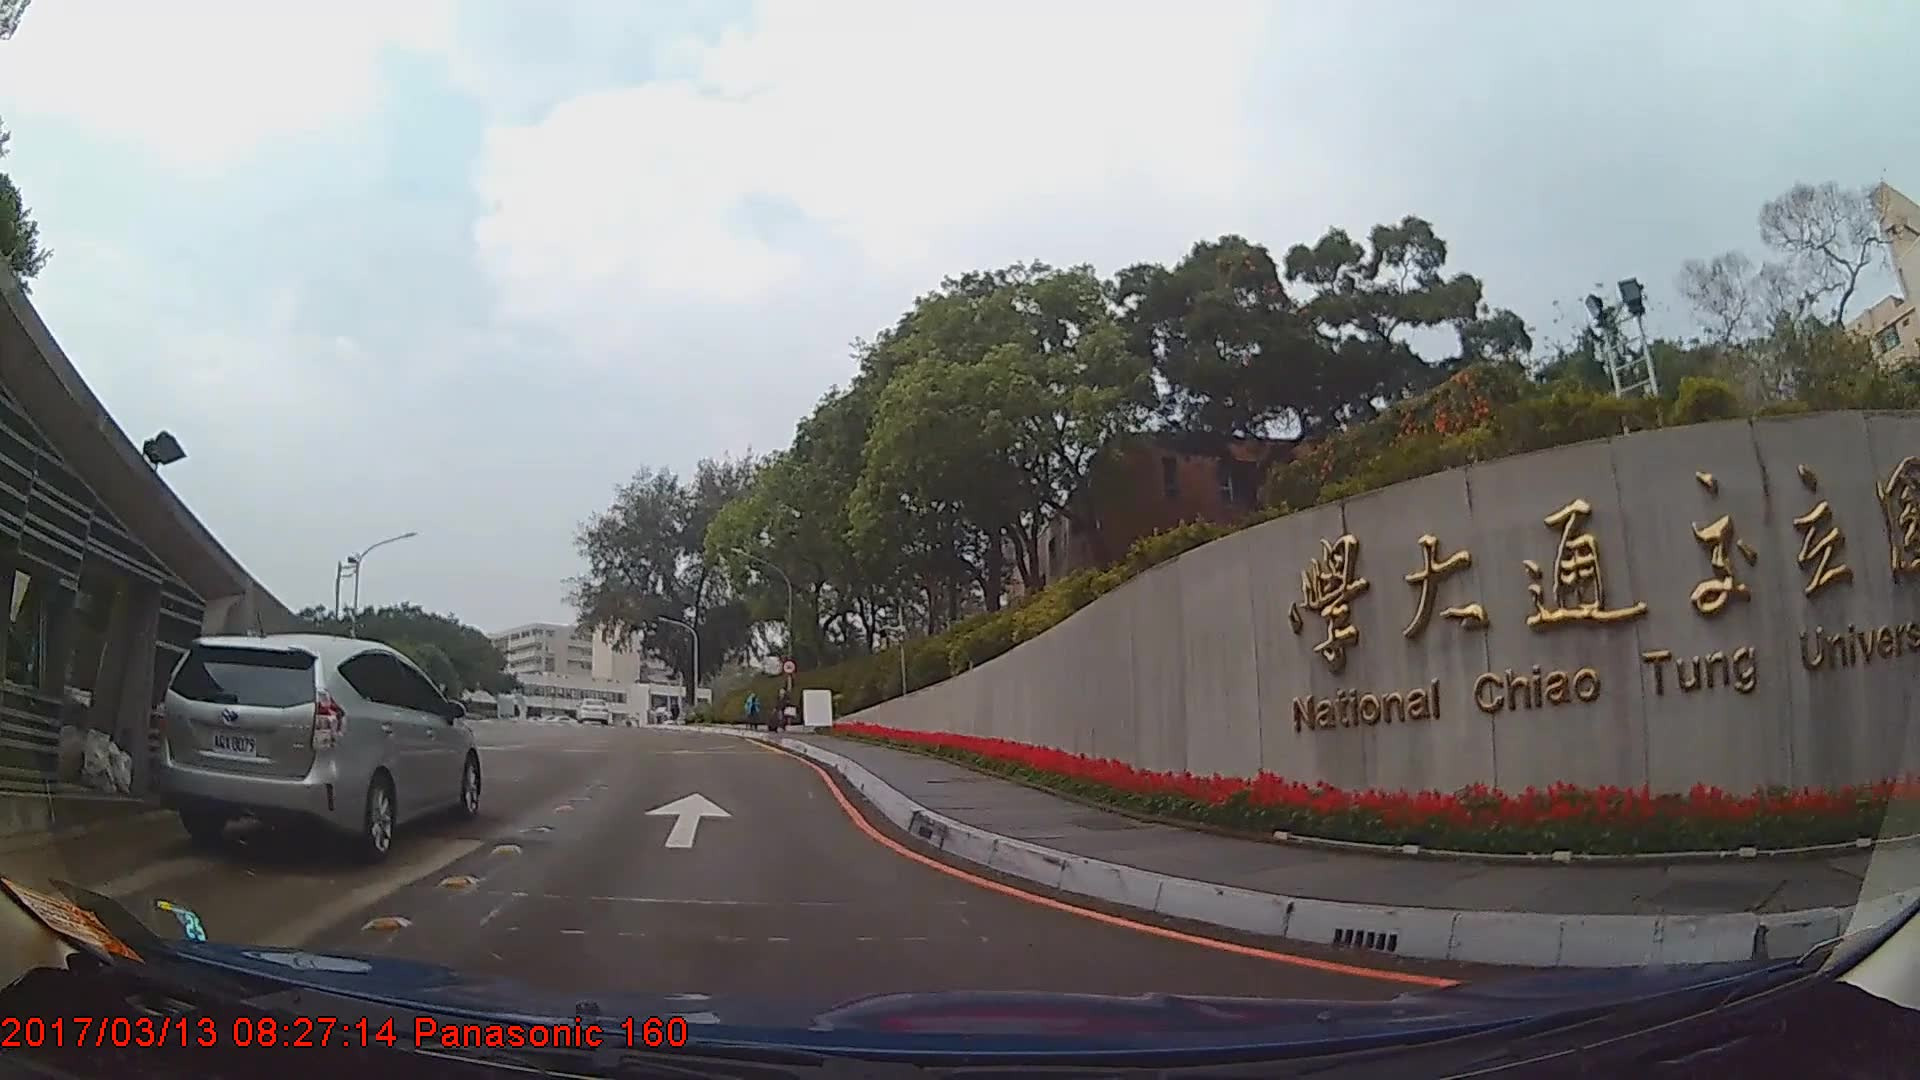pedestrian: (768, 688, 797, 734), (745, 693, 765, 734)
vehicle: (153, 636, 481, 865), (573, 695, 609, 725)
